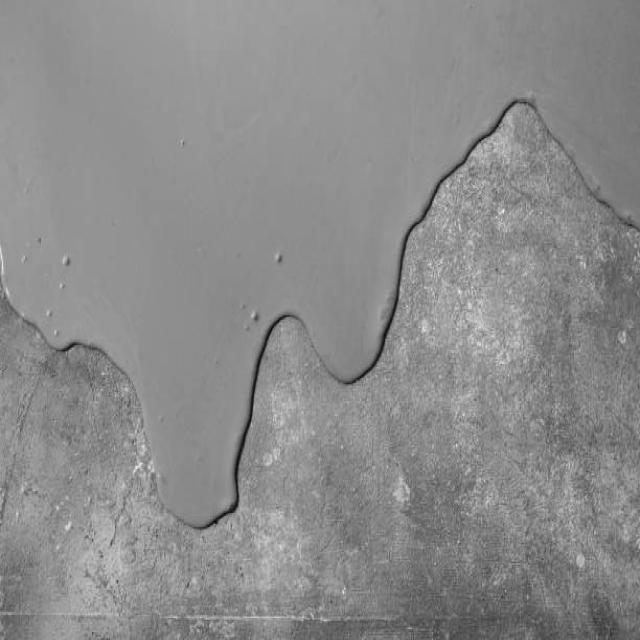paint drips: (0, 75, 639, 538)
